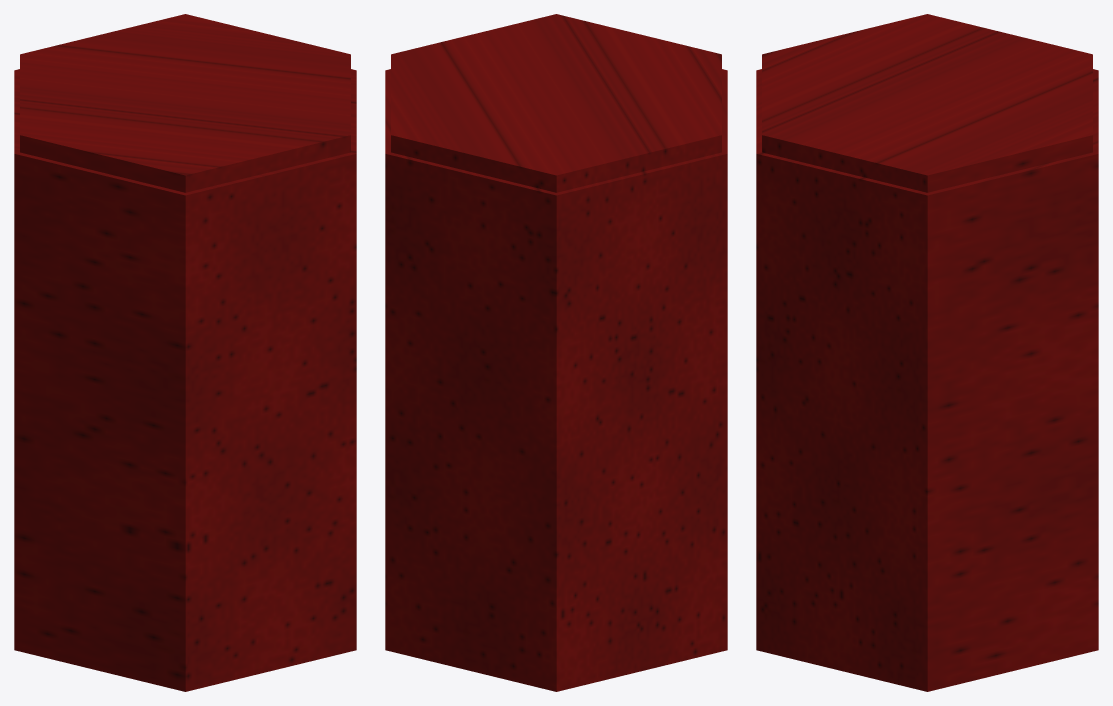
Rendered from PROP-9523B2D29DAD_lod2.glb.
3 renders of one model, left to right at view 1: azimuth 30°, elevation 25°; view 2: azimuth 150°, elevation 25°; view 3: azimuth 270°, elevation 25°, orthographic.
Visible parts, largest first — view 1: barrel_body.003, barrel_lid.003; view 2: barrel_body.003, barrel_lid.003; view 3: barrel_body.003, barrel_lid.003.
Part boxes in pixels (box(x1,y1,x2,y2)): barrel_body.003: box(14, 69, 356, 691); barrel_lid.003: box(20, 14, 350, 192); barrel_body.003: box(385, 69, 727, 691); barrel_lid.003: box(391, 14, 721, 192); barrel_body.003: box(756, 69, 1098, 691); barrel_lid.003: box(762, 14, 1092, 192).
Size of the model in its own units: 0.62 by 0.89 by 0.5369.
Materials: 1 (1 with a texture image).
